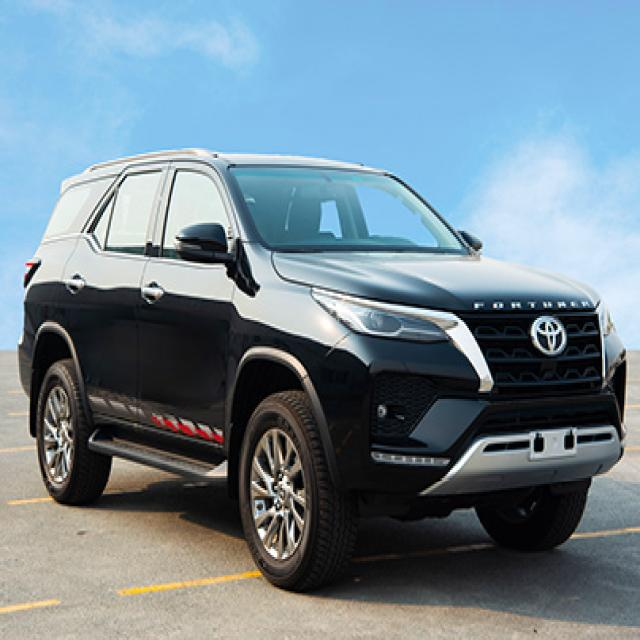light_vehicle: (17, 149, 628, 592)
